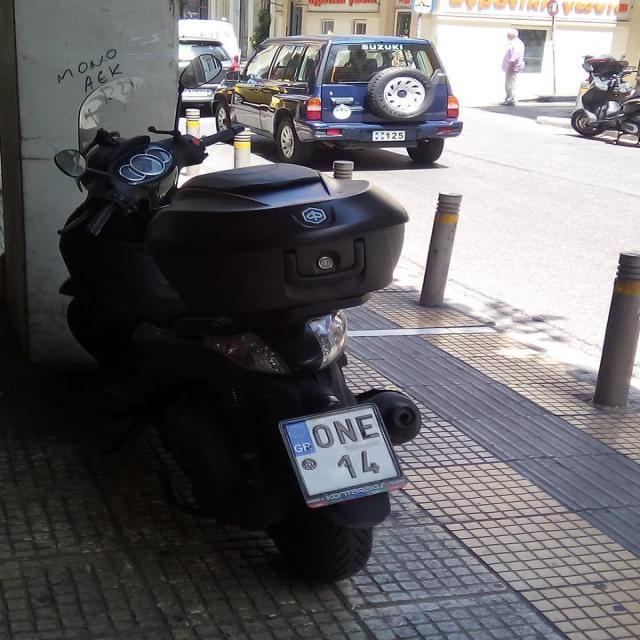nonspitting: (57, 47, 122, 92)
